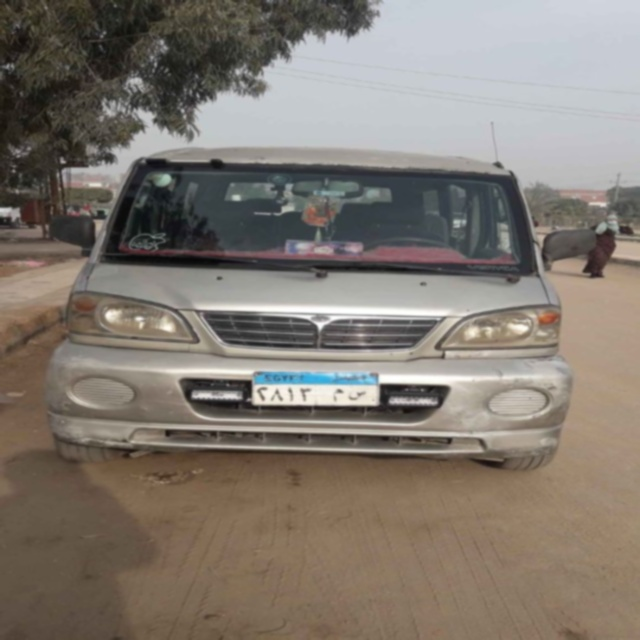License Plate: (250, 371, 380, 408)
